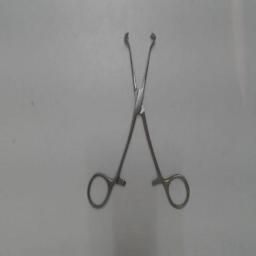Babcock Tissue Forceps: (82, 28, 194, 214)
